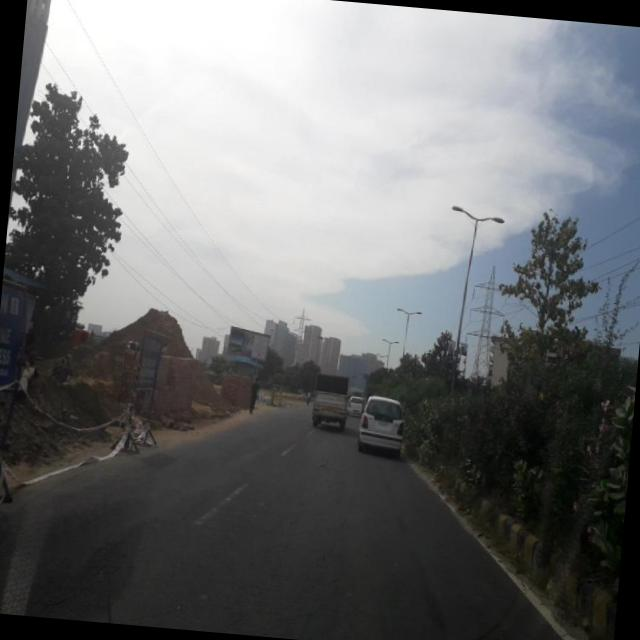crack: (8, 443, 476, 634)
